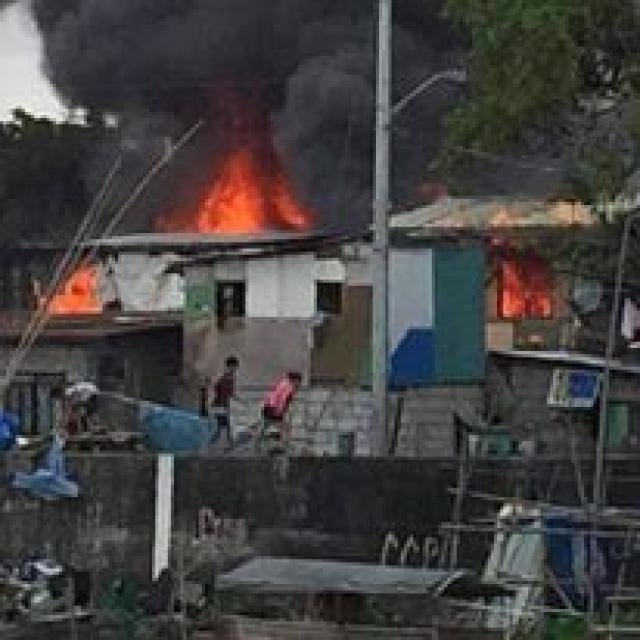Fire: (27, 0, 564, 224), (168, 138, 308, 240), (500, 243, 554, 320), (43, 266, 100, 320)
